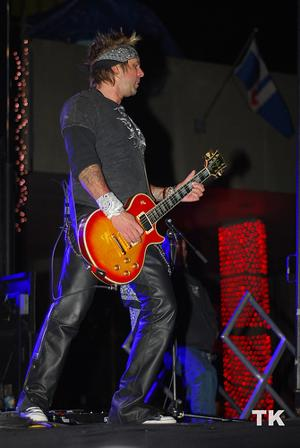person: (18, 29, 205, 426)
